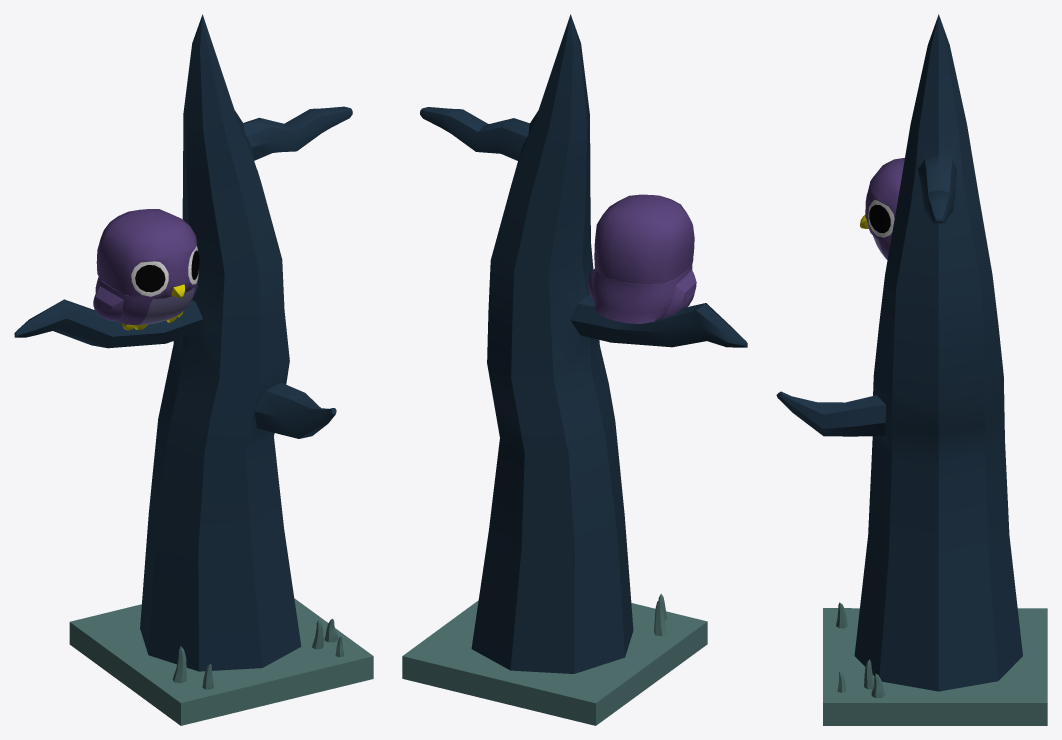
File: Chouette_perchoir(1).fbx
3 renders of one model, left to right at view 1: azimuth 30°, elevation 25°; view 2: azimuth 150°, elevation 25°; view 3: azimuth 270°, elevation 25°, orthographic.
Parts seen in each view (by area): view 1: polySurface11; view 2: polySurface11; view 3: polySurface11.
Part boxes in pixels (left/top/right/bottom): polySurface11: left=14, top=14, right=373, bottom=725; polySurface11: left=402, top=14, right=747, bottom=725; polySurface11: left=776, top=14, right=1047, bottom=725.
Size of the model in its own units: 1.72 by 3.22 by 1.21.
